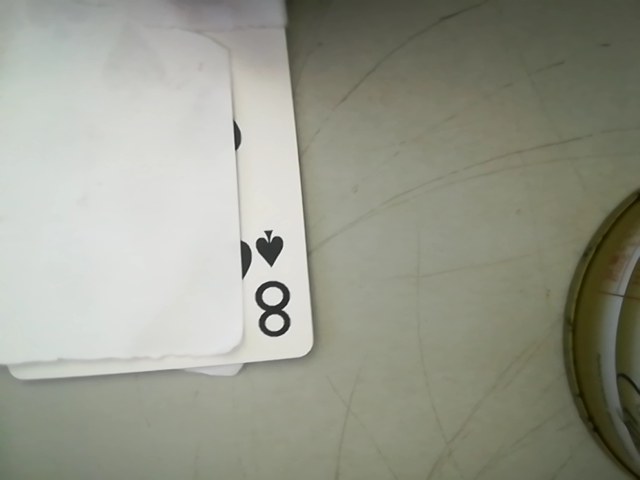ht 8: (232, 218, 305, 350)
